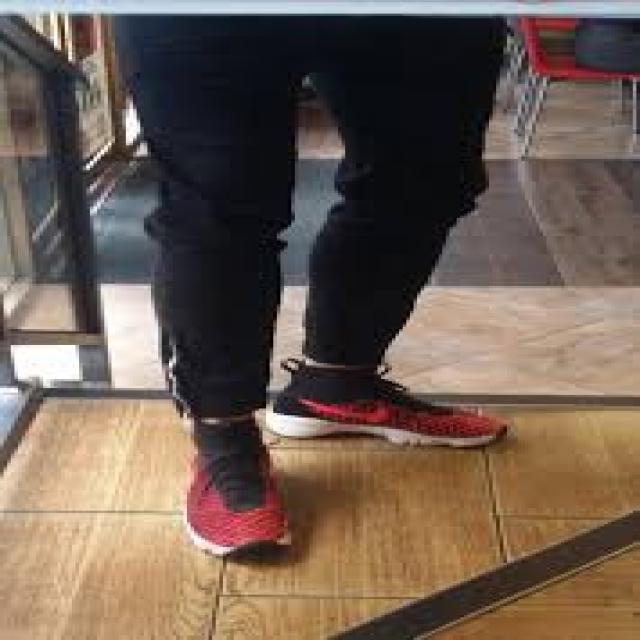shoe: (262, 371, 510, 458), (170, 413, 307, 562)
